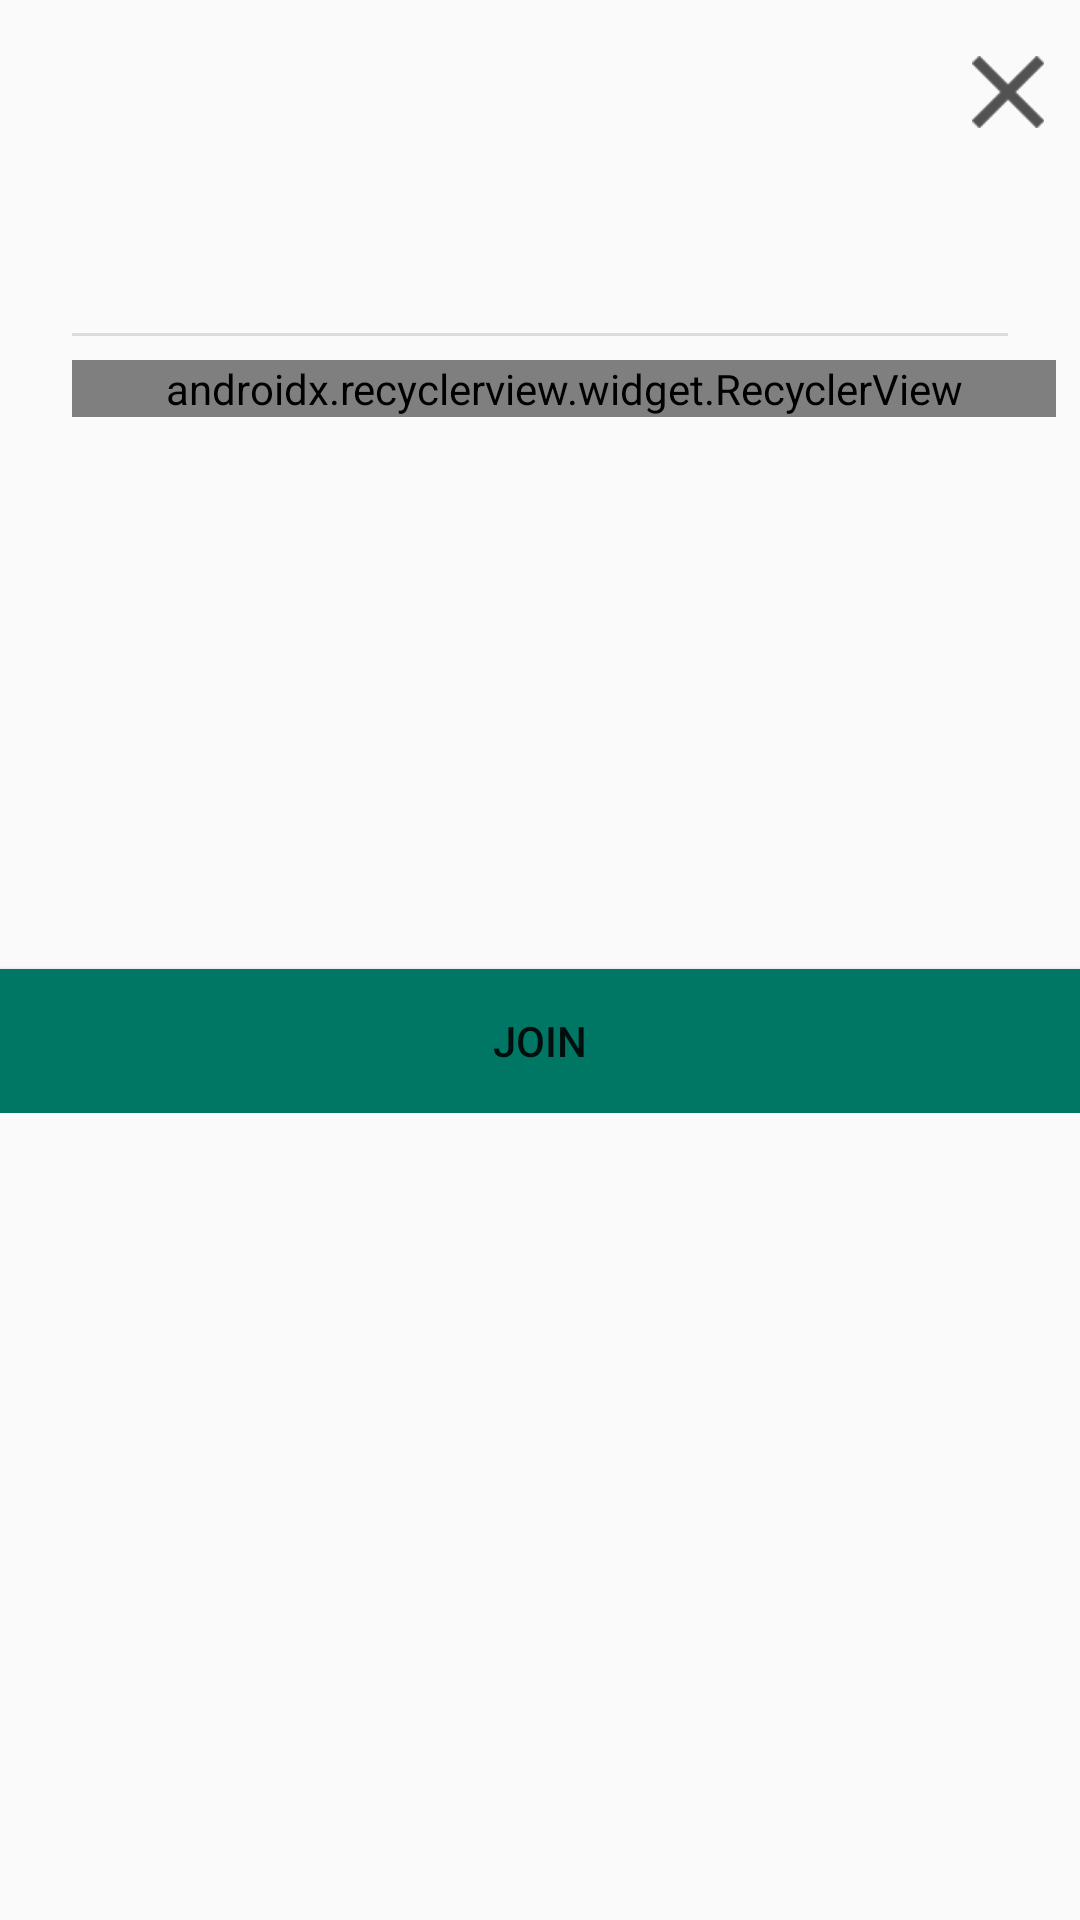

Screen size 1080px×1920px. Icon name, then its center in pixels as [x,y]:
content clear: [1008,92]
